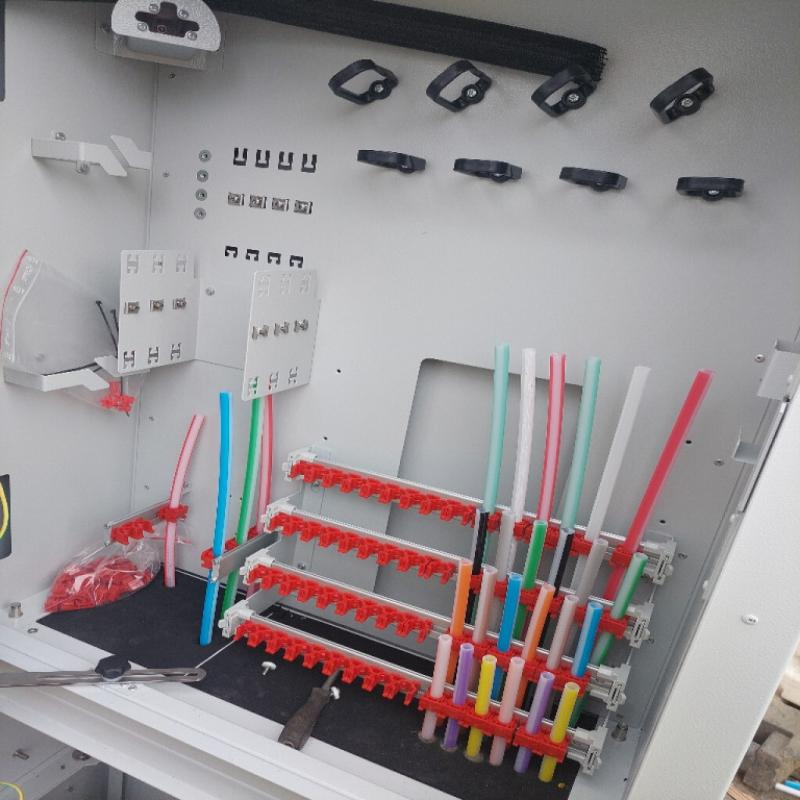NT-Gehause: (2, 0, 800, 800)
